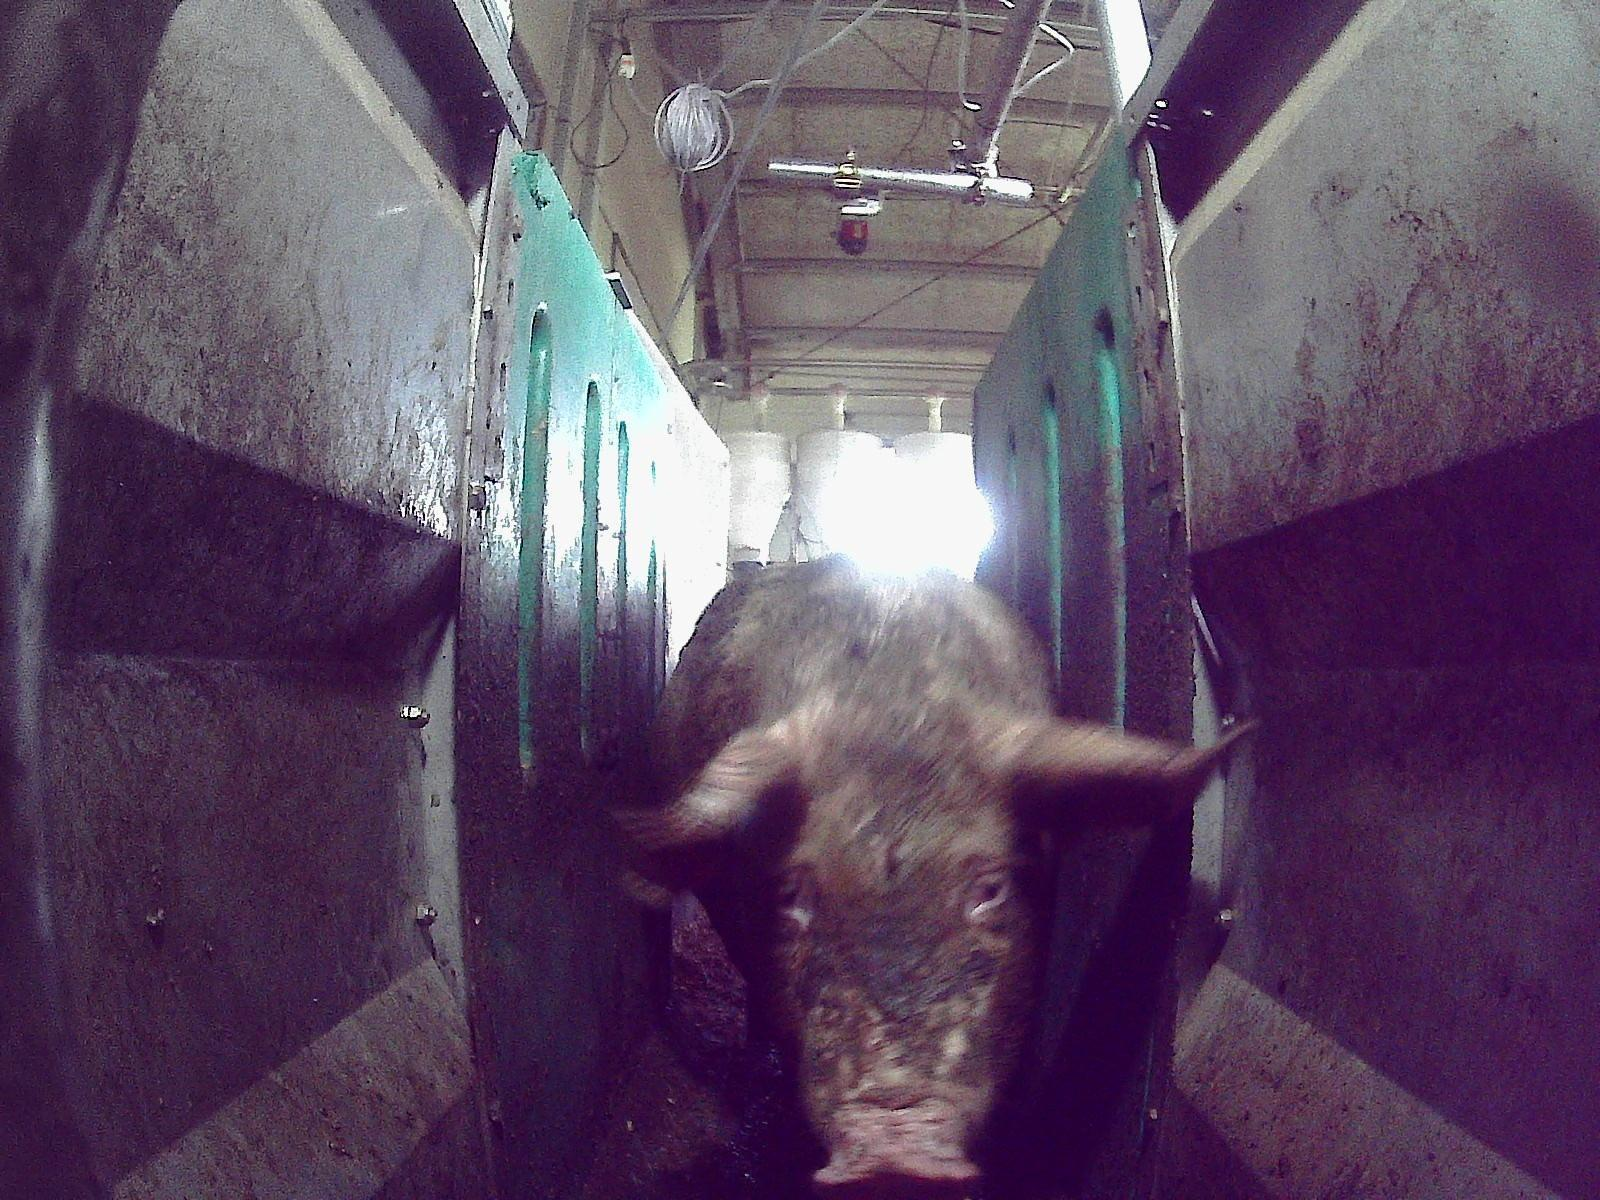Face: (741, 703, 1047, 1199)
